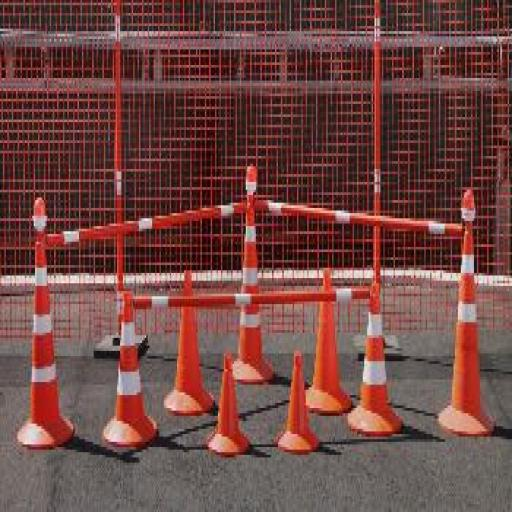bus_stop: (0, 0, 512, 340)
